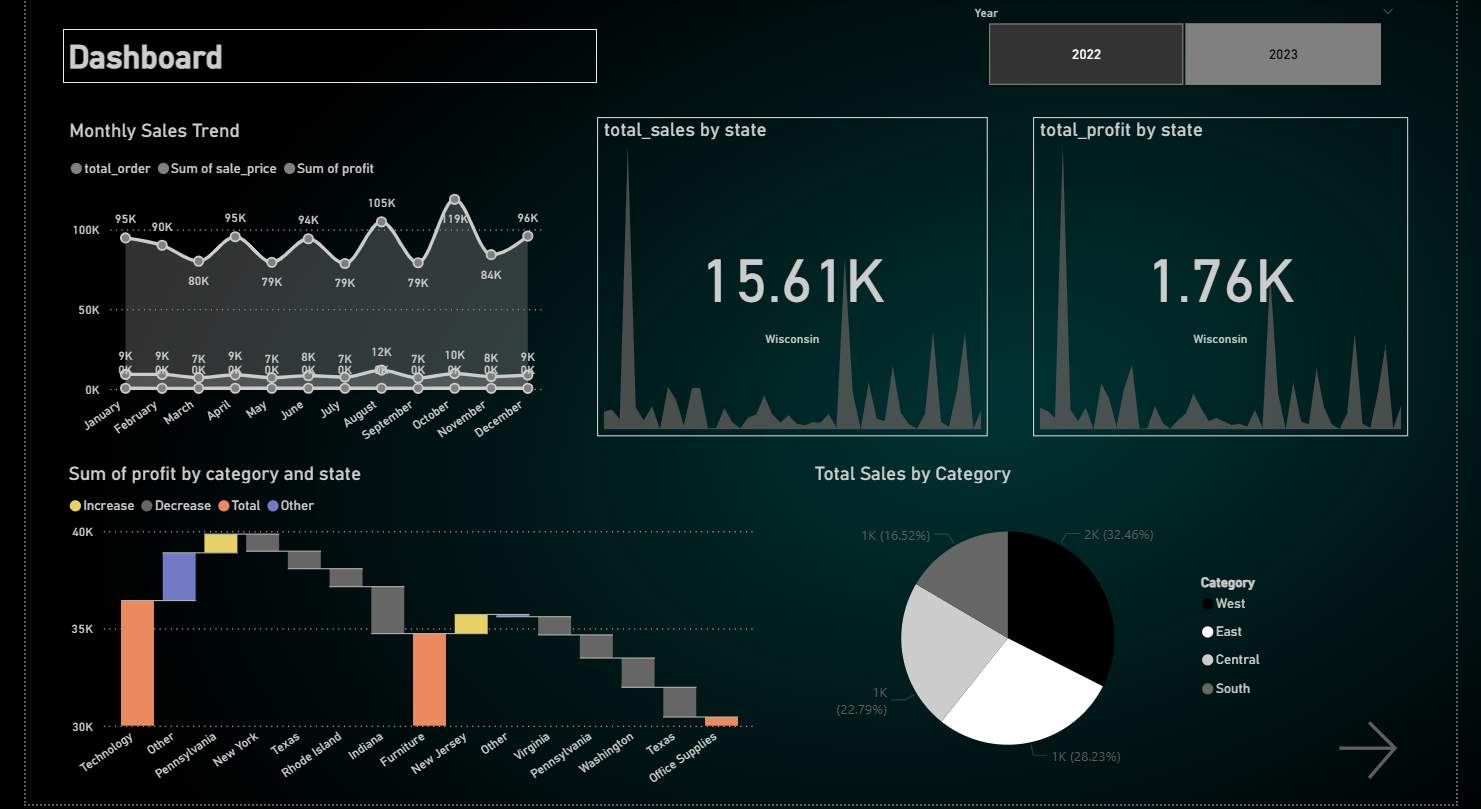

The dashboard page shown, as its layout file describes it:
{"tool":"powerbi","page":{"name":"Dashboard","canvas":[1280,720],"ordinal":1},"visuals":[{"type":"kpi","fields":{"Indicator":["filtered_orders.total_sales"],"TrendLine":["filtered_orders.state"]},"box":[511.4,105.2,350,285.6],"z":0},{"type":"kpi","fields":{"TrendLine":["filtered_orders.state"],"Indicator":["filtered_orders.total_profit"]},"box":[901.4,105.2,335.5,285.6],"z":1000},{"type":"slicer","fields":{"Values":["filtered_orders.order_date.Variation.Date Hierarchy.Year"]},"box":[836.1,0,400.8,83.4],"z":2000},{"type":"textbox","title":"Dashboard","box":[33.6,26.3,477.9,48.1],"z":3000},{"type":"actionButton","box":[1168.5,639.8,67.6,64.8],"z":4000},{"type":"lineChart","title":"Monthly Sales Trend","fields":{"Y":["filtered_orders.total_order","Sum(filtered_orders.sale_price)","Sum(filtered_orders.profit)"],"Category":["filtered_orders.order_date.Variation.Date Hierarchy.Month"]},"box":[34.5,107,433.5,306.5],"z":5000},{"type":"waterfallChart","fields":{"Category":["filtered_orders.category"],"Y":["Sum(filtered_orders.profit)"],"Breakdown":["filtered_orders.state"]},"box":[33.6,413.5,624.8,306.5],"z":6000},{"type":"pieChart","title":"Total Sales by Category","fields":{"Category":["filtered_orders.region"],"Y":["filtered_orders.total_order"]},"box":[701,413.5,427.1,296.5],"z":7000}]}

Visuals, with their boxes in screenshot pixels (x1, y1, x2, y2), scaled from the page's 1280x720 canvas onto the 1481x809 screenshot:
kpi - filtered_orders.total_sales x filtered_orders.state: left=592, top=118, right=997, bottom=439
kpi - filtered_orders.state x filtered_orders.total_profit: left=1043, top=118, right=1431, bottom=439
slicer - filtered_orders.order_date.Variation.Date Hierarchy.Year: left=967, top=0, right=1431, bottom=94
"Dashboard" textbox: left=39, top=30, right=592, bottom=84
actionButton: left=1352, top=719, right=1430, bottom=792
"Monthly Sales Trend" lineChart: left=40, top=120, right=541, bottom=465
waterfallChart - filtered_orders.category x Sum(filtered_orders.profit): left=39, top=465, right=762, bottom=808
"Total Sales by Category" pieChart: left=811, top=465, right=1305, bottom=798
